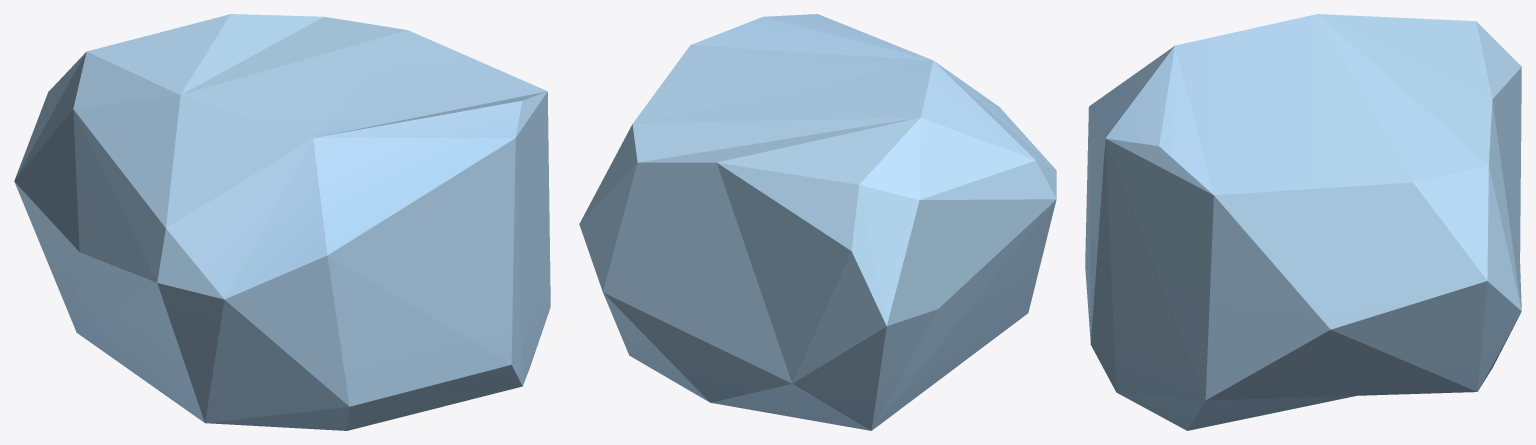
The model's file is Rock 03.FBX.
3 renders of one model, left to right at view 1: azimuth 30°, elevation 25°; view 2: azimuth 150°, elevation 25°; view 3: azimuth 270°, elevation 25°, orthographic. The views are drawn at different scales.
Parts seen in each view (by area): view 1: Box001; view 2: Box001; view 3: Box001.
Part boxes in pixels (x1=…): Box001: x1=14, y1=14, x2=550, y2=430; Box001: x1=579, y1=14, x2=1056, y2=430; Box001: x1=1085, y1=14, x2=1521, y2=430.
Bounding box in the file's own units: 26.09 × 17.39 × 23.72.
